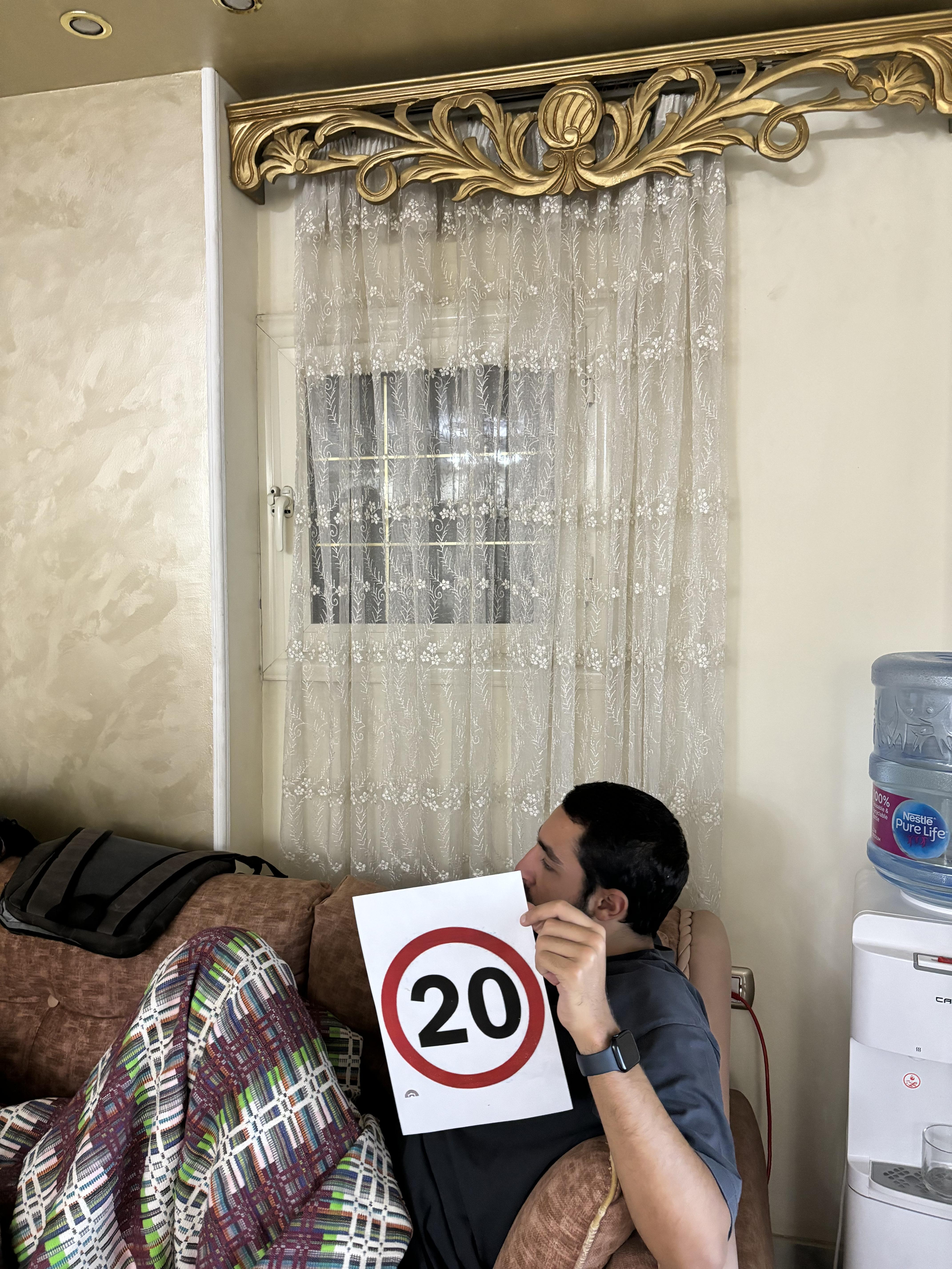20-Speed: (381, 922, 554, 1089)
